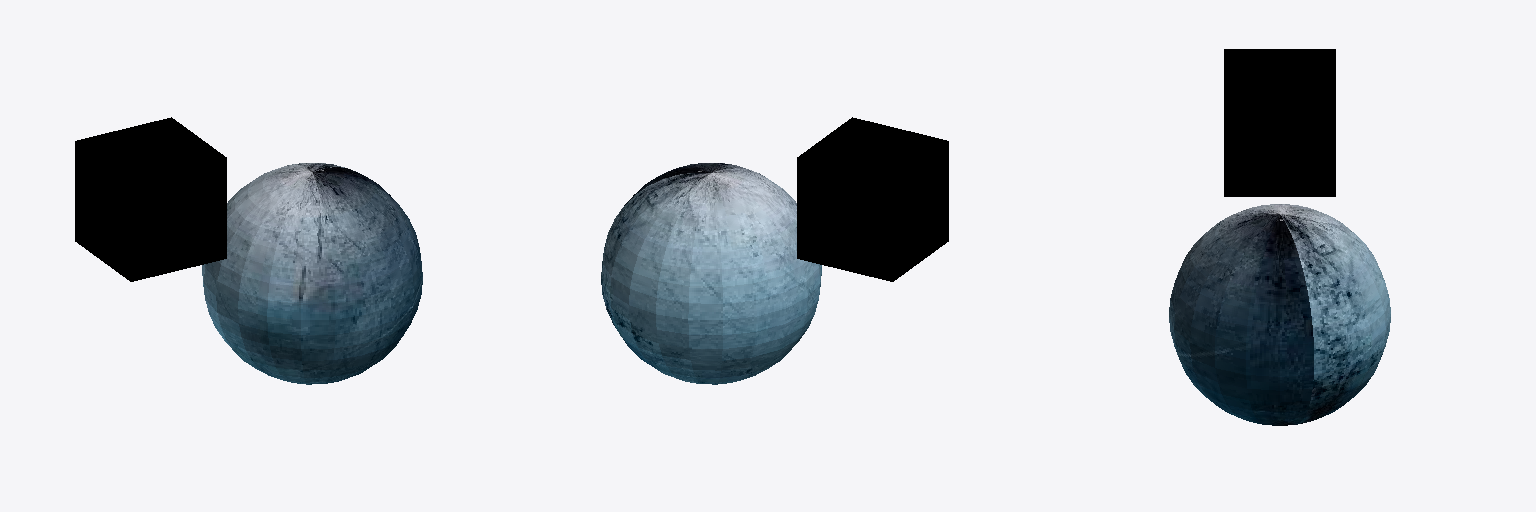
The picture shows the model from 3 angles: view 1: azimuth 30°, elevation 25°; view 2: azimuth 150°, elevation 25°; view 3: azimuth 270°, elevation 25°; orthographic projection.
Parts seen in each view (by area): view 1: pSphere1, pCube1; view 2: pSphere1, pCube1; view 3: pSphere1, pCube1.
Boxes of the visible parts, x1=… form: pSphere1: x1=202, y1=163, x2=422, y2=384; pCube1: x1=75, y1=117, x2=226, y2=281; pSphere1: x1=601, y1=163, x2=821, y2=384; pCube1: x1=797, y1=117, x2=948, y2=281; pSphere1: x1=1169, y1=204, x2=1390, y2=425; pCube1: x1=1224, y1=49, x2=1335, y2=196.
Bounding box in the file's own units: 3.17 × 2.62 × 2.
2 materials, 1 textured.